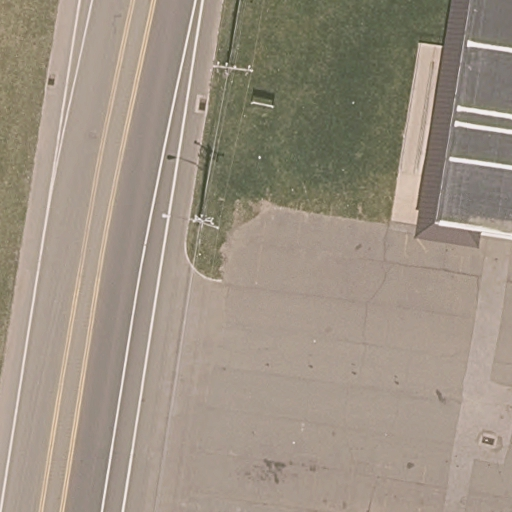DT: (210, 61, 253, 76), (189, 212, 218, 231)
